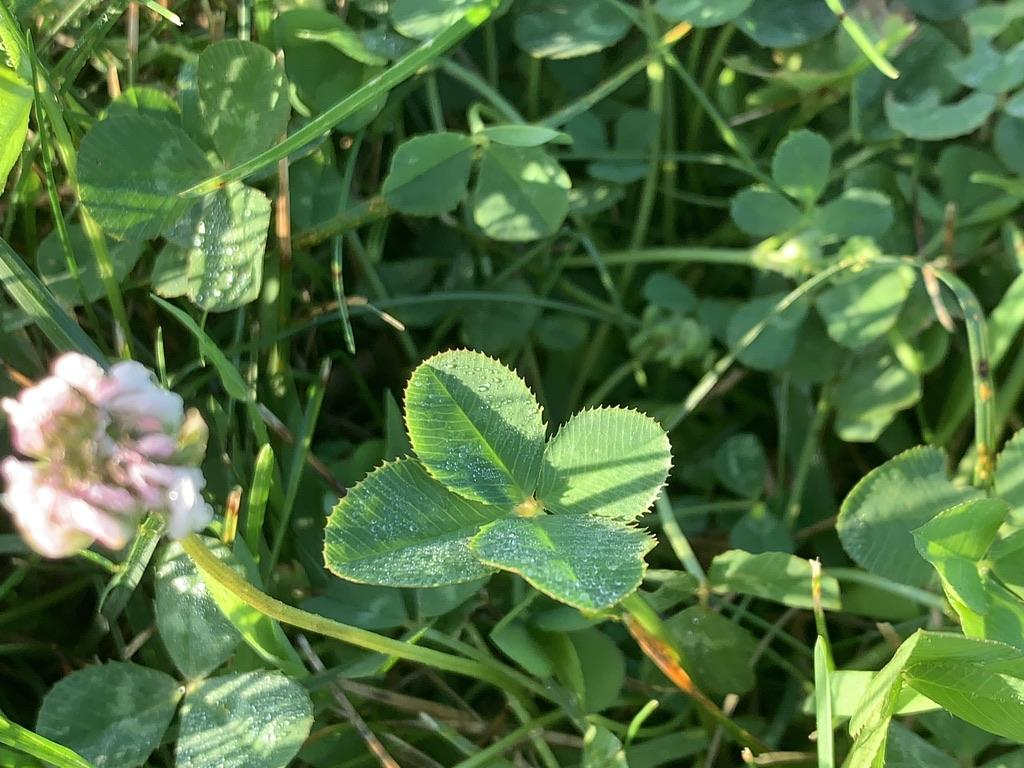4-Leaf-Clovers: (462, 262, 818, 522)
